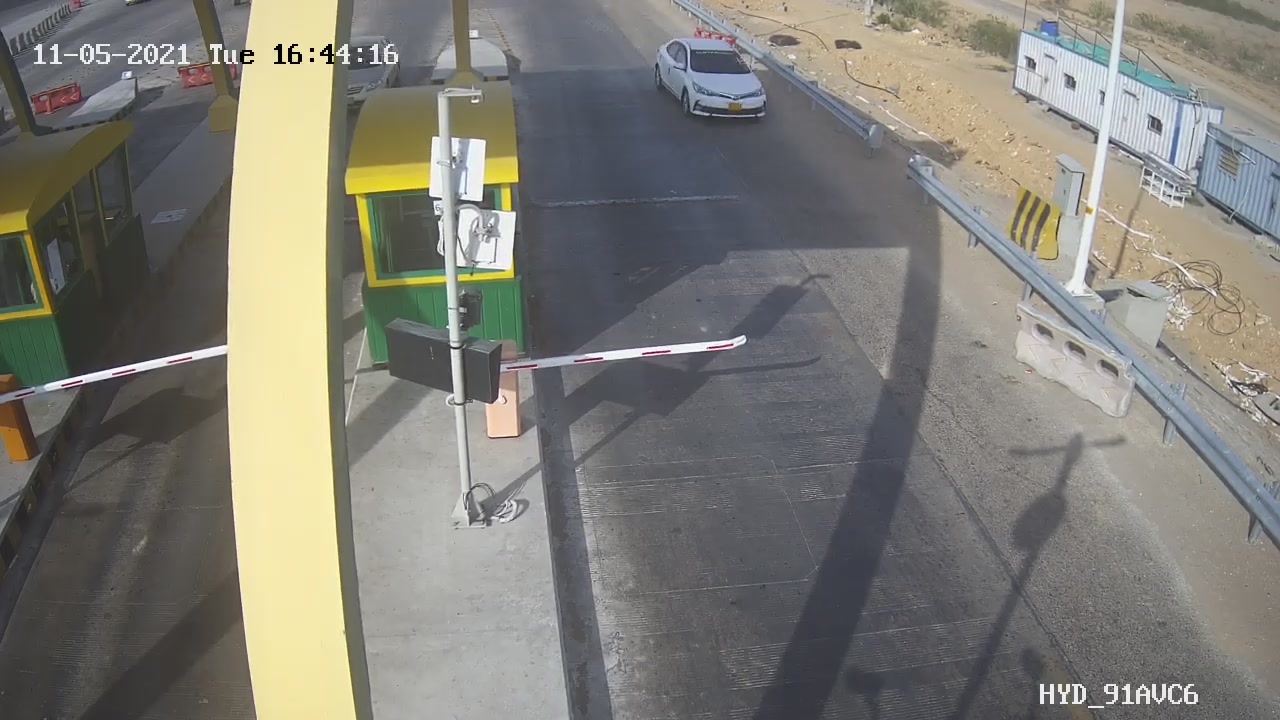F1: (639, 27, 785, 135)
